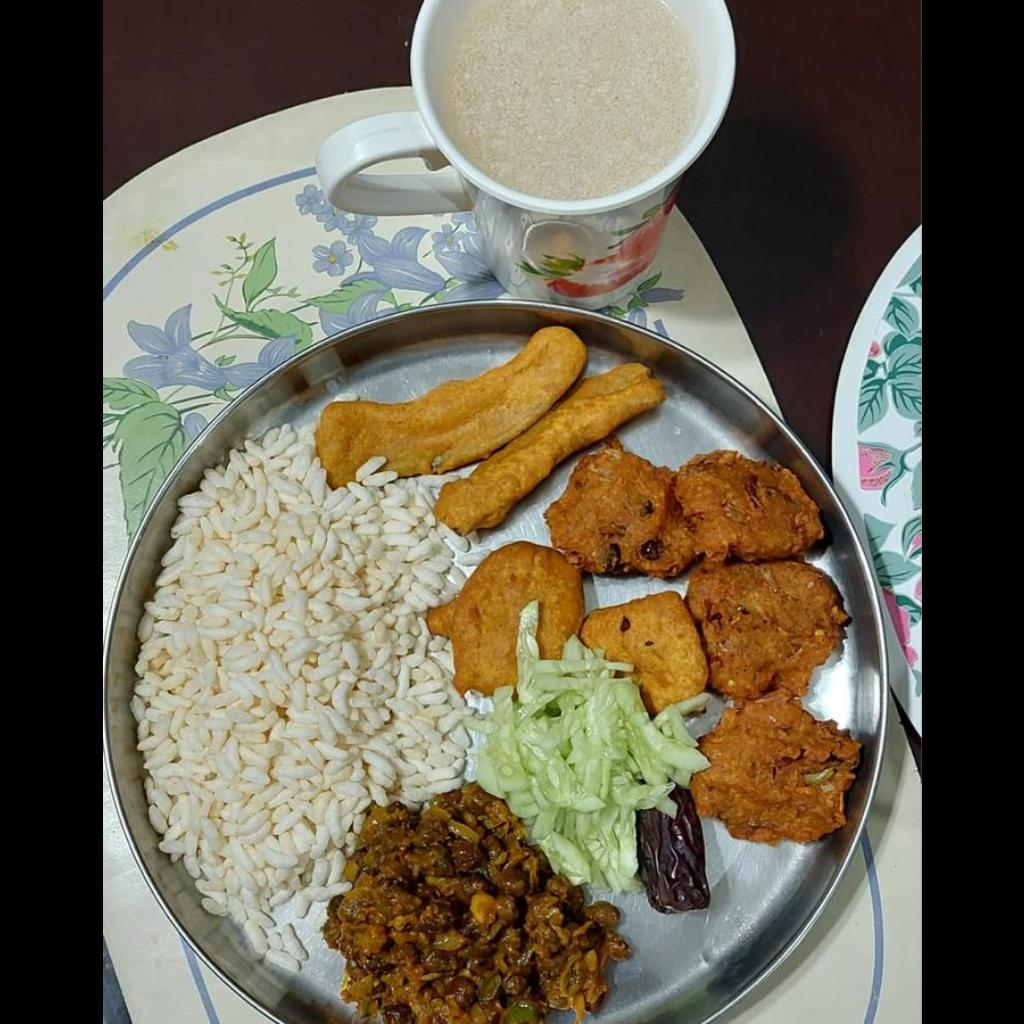beguni: (320, 332, 660, 529)
chola: (334, 794, 618, 1018)
chop-alu: (436, 541, 699, 701)
dates: (642, 800, 710, 916)
juice: (436, 2, 702, 190)
peyaju: (547, 441, 857, 845)
puffed-rice: (125, 438, 454, 953)
salad: (484, 667, 696, 885)
